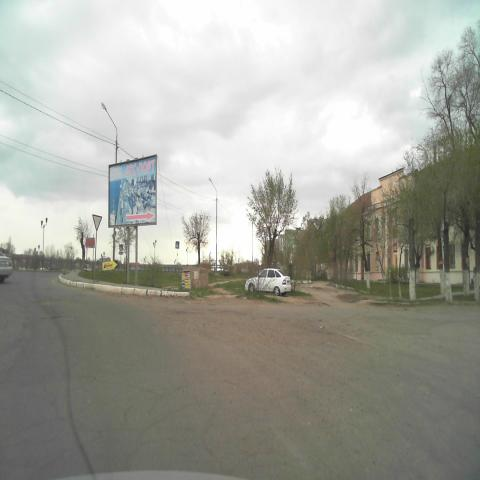2_4: (92, 213, 103, 232)
